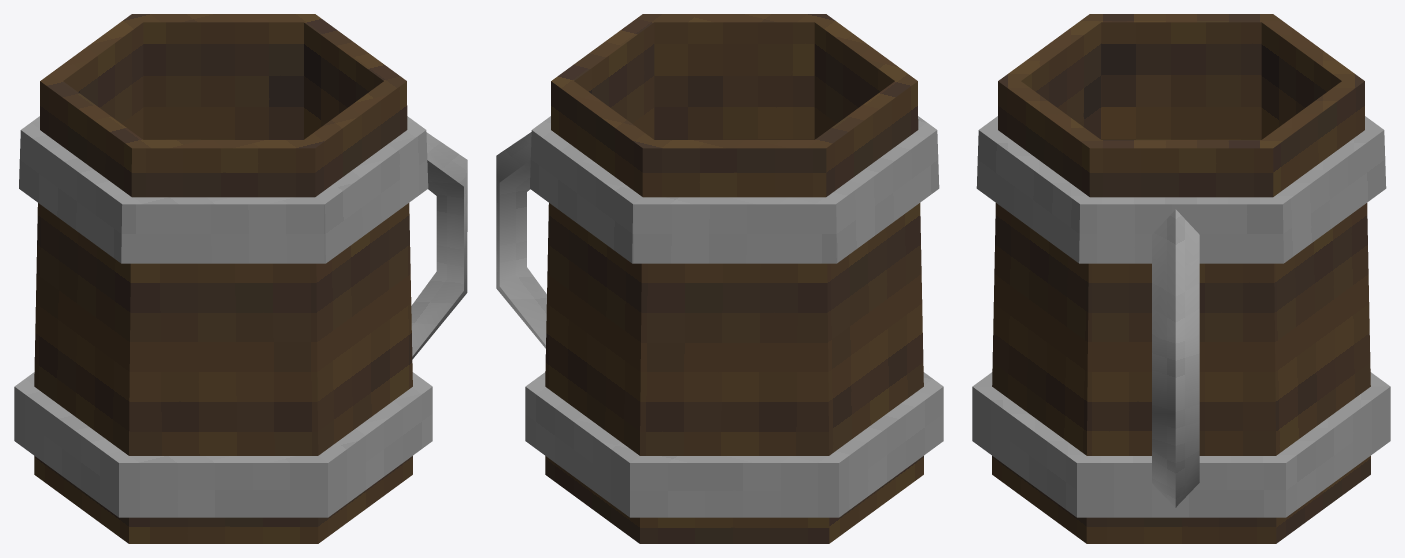
File: jug.fbx
3 renders of one model, left to right at view 1: azimuth 30°, elevation 25°; view 2: azimuth 150°, elevation 25°; view 3: azimuth 270°, elevation 25°, orthographic.
Parts seen in each view (by area): view 1: pCylinder8; view 2: pCylinder8; view 3: pCylinder8.
Part boxes in pixels (x1,y1,x2,y2): pCylinder8: (14, 14, 467, 543); pCylinder8: (496, 14, 943, 543); pCylinder8: (972, 14, 1390, 543).
Size of the model in its own units: 8.22 by 7.77 by 7.48.
